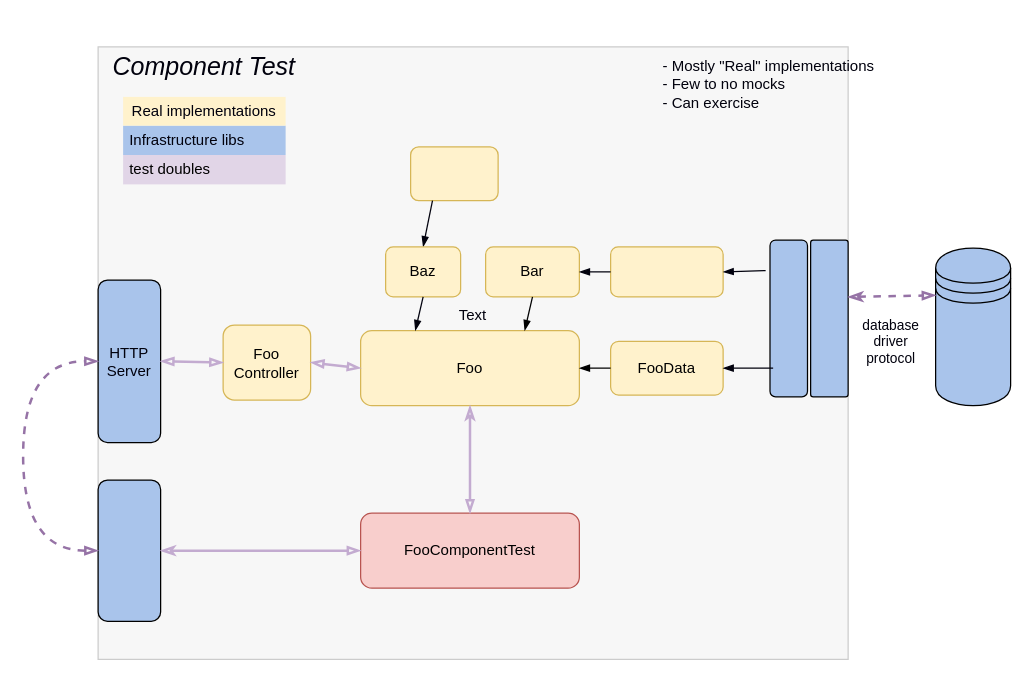
Image size: 1033x681. Some labels were removed from this diagram. Here are the shapes that lost their labels. From the top down, the box of each, then its label:
(409, 146, 498, 201): Calculator
(609, 246, 723, 297): BarData
(769, 239, 808, 397): database api
(809, 239, 848, 397): driver
(97, 479, 161, 621): HTTP Client
